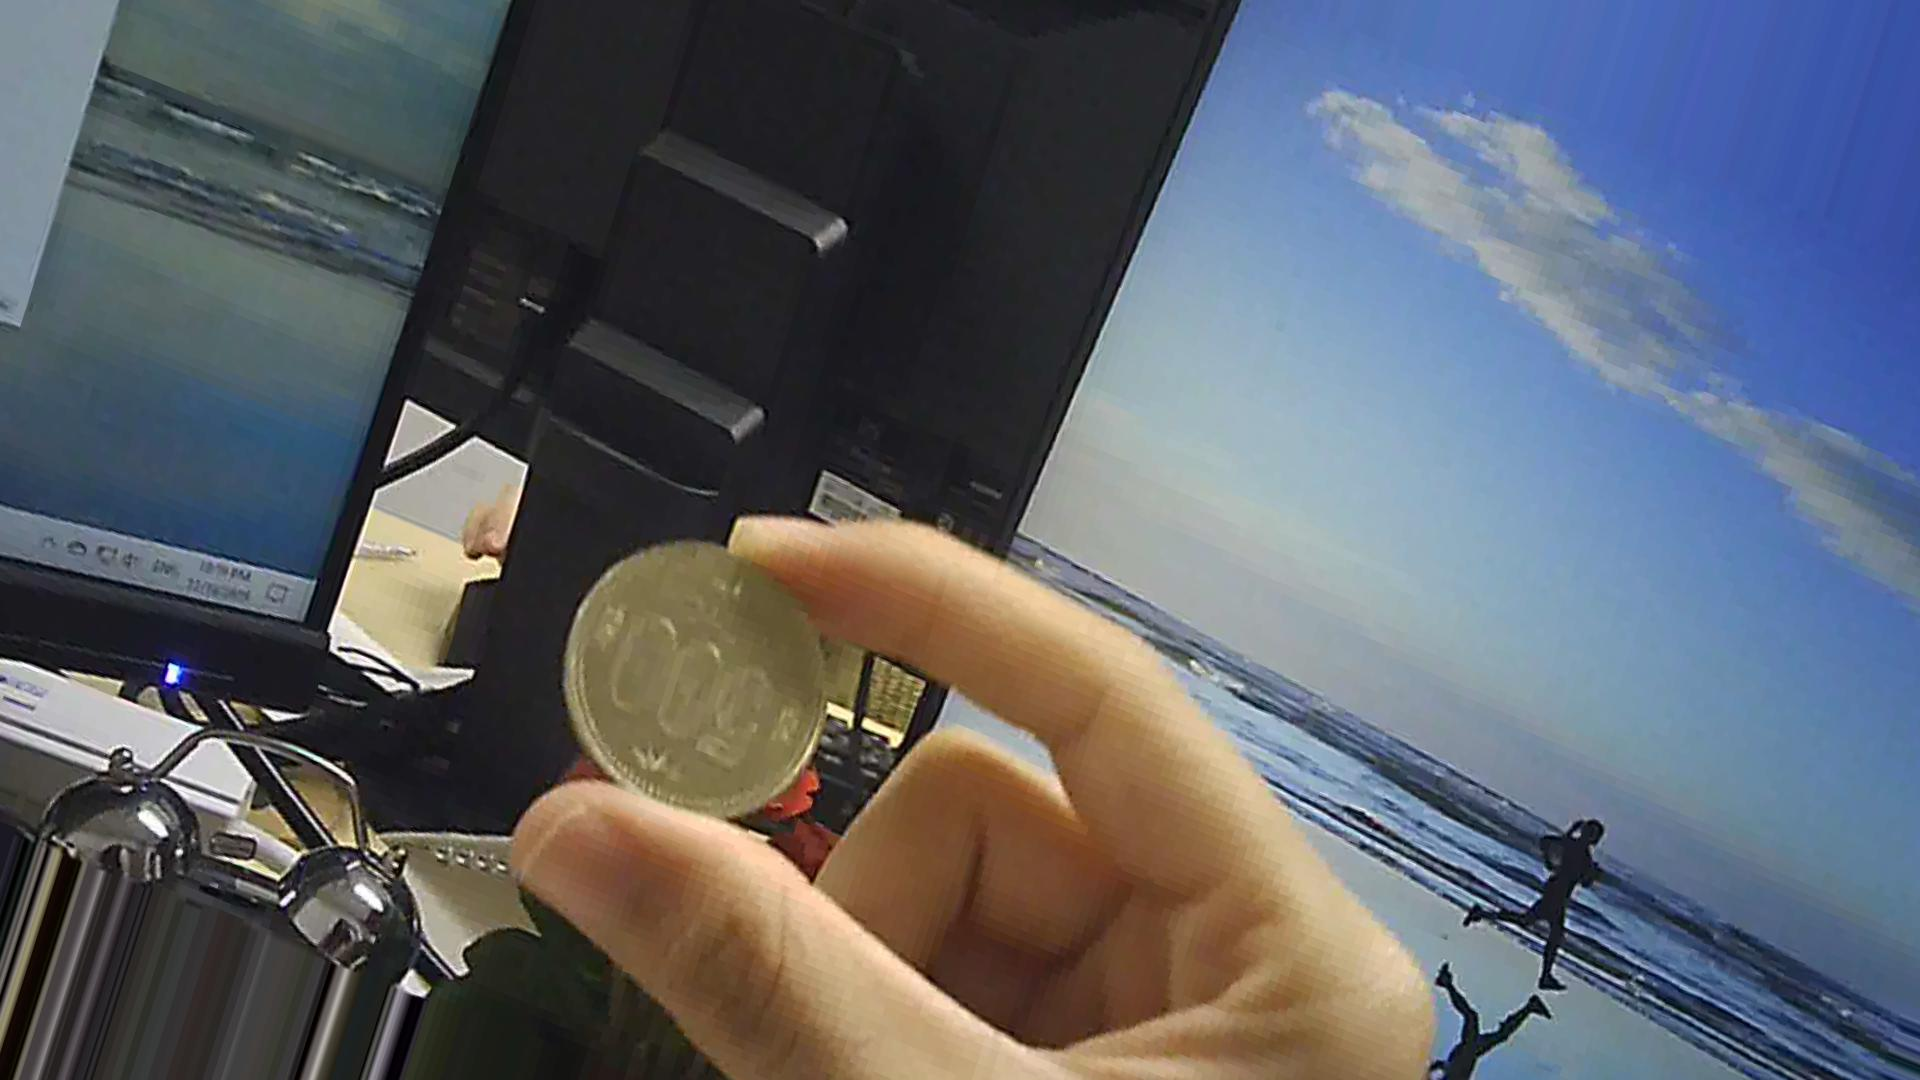500 Yen: (549, 537, 832, 827)
